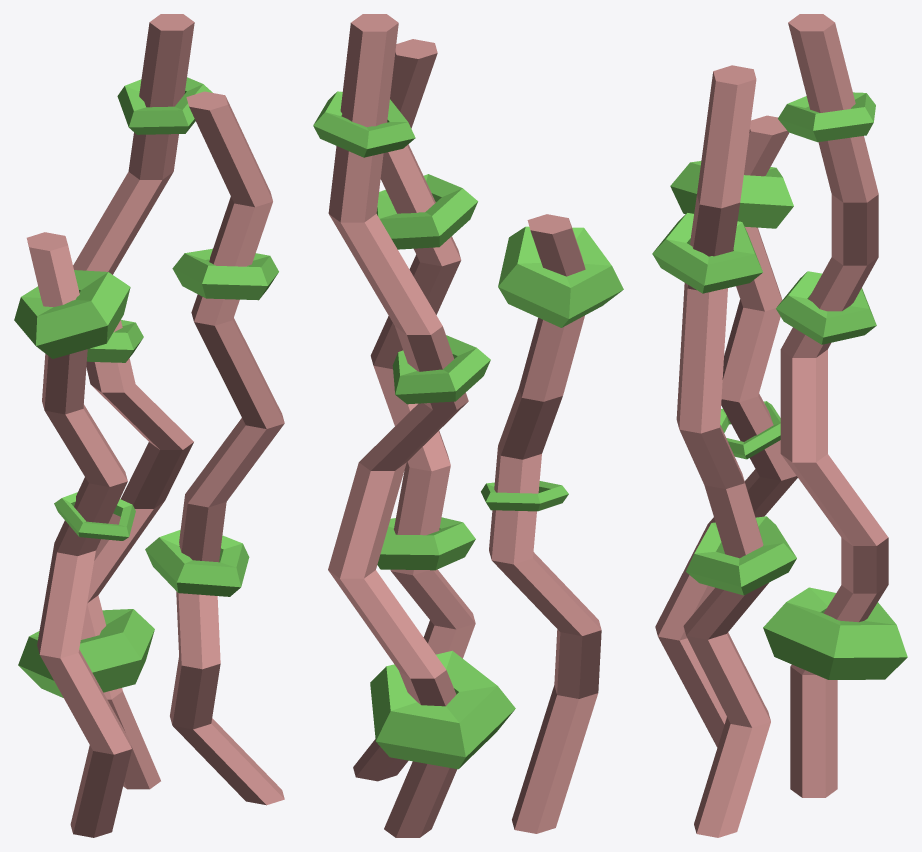
The model's file is voynich5.fbx.
The picture shows the model from 3 angles, left to right: view 1: azimuth 30°, elevation 25°; view 2: azimuth 150°, elevation 25°; view 3: azimuth 270°, elevation 25°; orthographic projection. The views are drawn at different scales.
Parts seen in each view (by area): view 1: Voynich4Tree, Fruit; view 2: Voynich4Tree, Fruit; view 3: Voynich4Tree, Fruit.
Part boxes in pixels (bbox=[...]): Voynich4Tree: bbox=[26, 14, 284, 837]; Fruit: bbox=[14, 77, 278, 697]; Voynich4Tree: bbox=[328, 14, 601, 837]; Fruit: bbox=[313, 91, 623, 769]; Voynich4Tree: bbox=[655, 14, 888, 837]; Fruit: bbox=[652, 92, 907, 679].
Size of the model in its own units: 0.64 by 1.83 by 0.5423.
